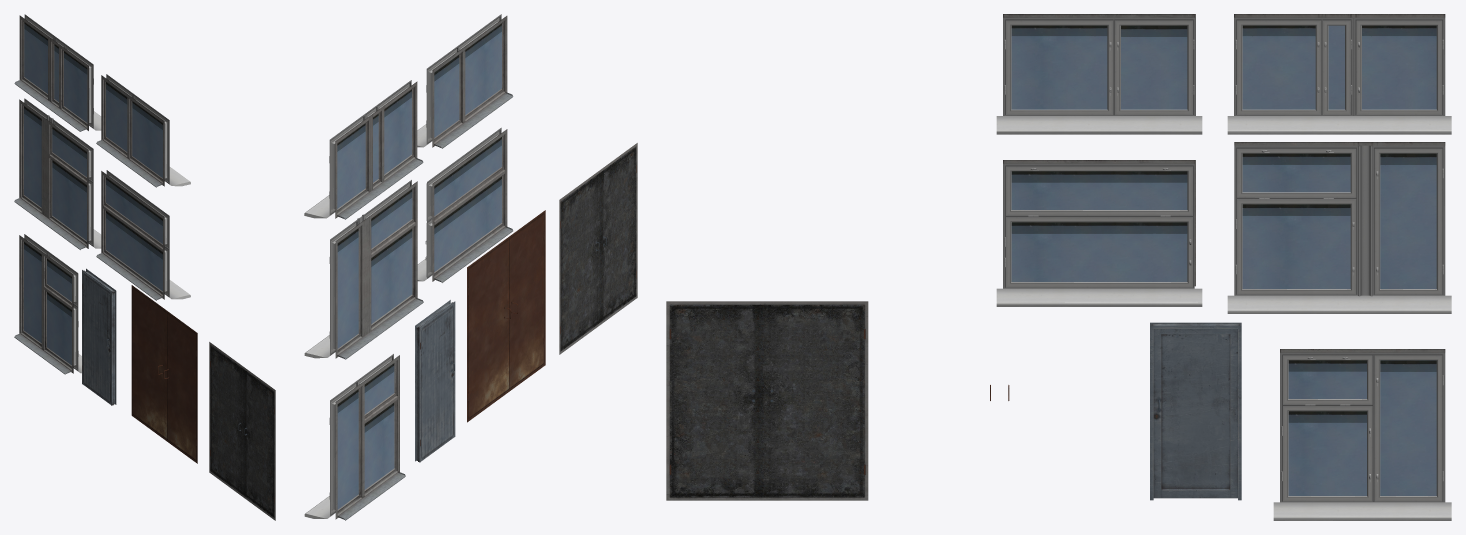
Rendered from Window_2.obj.
3 renders of one model, left to right at view 1: azimuth 30°, elevation 25°; view 2: azimuth 150°, elevation 25°; view 3: azimuth 270°, elevation 25°, orthographic. The views are drawn at different scales.
Visible parts, largest first — view 1: lo door_stuffdoor_freight base door_stuffdoor_freight, lo door_stuffdoor_human base door_stuffdoor_human, lo door1:polySurface26 door1:door door_21x10_external_backyard, lo window_22x19, lo window_20x17 glass ID520, lo window_22x19 glass ID162, lo window_17x19, lo window_22x10, window_20x16 lo glass ID421, lo window_20x17, lo window_17x19 glass ID610, lo window_22x19 glass ID140 (+18 smaller); view 2: lo door_stuffdoor_freight base door_stuffdoor_freight, lo door_stuffdoor_human base door_stuffdoor_human, lo door1:polySurface26 door1:door door_21x10_external_backyard, lo window_22x19, lo window_20x17 glass ID520, lo window_22x19 glass ID162, lo window_17x19, lo window_22x10, window_20x16 lo glass ID421, lo window_20x17, lo window_22x19 glass ID140, lo window_17x19 glass ID610 (+19 smaller); view 3: lo door_stuffdoor_human base door_stuffdoor_human, lo window_22x19 interior, lo door1:polySurface26 door1:door door_21x10_external_backyard, lo window_22x10 interior, lo window_17x19 interior, lo window_20x17 interior, lo window_20x17 glass ID512, window_20x16 lo interior, lo window_22x19 glass ID154, window_20x16 lo ID413 glass, lo window_17x19 glass ID602, lo window_22x19 glass ID127 (+11 smaller).
Boxes of the visible parts, x1,y1,x2,y2 form: lo door_stuffdoor_freight base door_stuffdoor_freight: (131,285,197,463); lo door_stuffdoor_human base door_stuffdoor_human: (209,342,275,520); lo door1:polySurface26 door1:door door_21x10_external_backyard: (82,271,111,404); lo window_22x19: (19,99,88,248); lo window_20x17 glass ID520: (106,211,162,291); lo window_22x19 glass ID162: (52,160,86,240); lo window_17x19: (19,235,73,373); lo window_22x10: (19,15,88,130); window_20x16 lo glass ID421: (132,101,162,177); lo window_20x17: (101,171,164,299); lo window_17x19 glass ID610: (24,242,41,342); lo window_22x19 glass ID140: (24,106,41,207); lo door_stuffdoor_freight base door_stuffdoor_freight: (467,210,545,422); lo door_stuffdoor_human base door_stuffdoor_human: (559,143,637,354); lo door1:polySurface26 door1:door door_21x10_external_backyard: (420,303,454,461); lo window_22x19: (335,181,417,358); lo window_20x17 glass ID520: (434,176,501,271); lo window_22x19 glass ID162: (371,229,412,323); lo window_17x19: (335,355,399,519); lo window_22x10: (335,81,417,218); window_20x16 lo glass ID421: (465,23,501,114); lo window_20x17: (432,129,507,281); lo window_22x19 glass ID140: (337,228,358,348); lo window_17x19 glass ID610: (337,389,358,509); lo door_stuffdoor_human base door_stuffdoor_human: (666,301,868,500); lo window_22x19 interior: (1227,145,1451,313); lo door1:polySurface26 door1:door door_21x10_external_backyard: (1153,329,1237,498); lo window_22x10 interior: (1227,17,1451,134); lo window_17x19 interior: (1273,352,1451,520); lo window_20x17 interior: (996,163,1202,306); lo window_20x17 glass ID512: (1011,222,1187,281); window_20x16 lo interior: (996,17,1202,134); lo window_22x19 glass ID154: (1242,204,1350,288); window_20x16 lo ID413 glass: (1011,25,1107,109); lo window_17x19 glass ID602: (1380,360,1436,495); lo window_22x19 glass ID127: (1380,153,1436,288).
Size of the model in its own units: 59.38 by 588 by 856.
